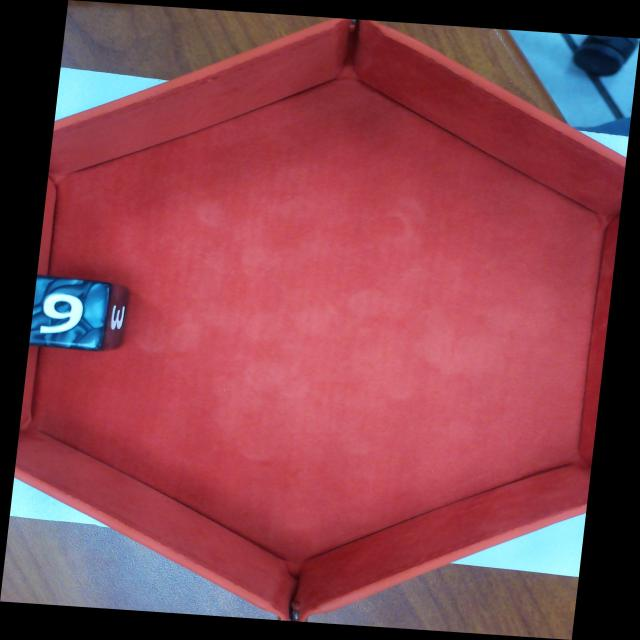dice: (33, 278, 109, 349)
